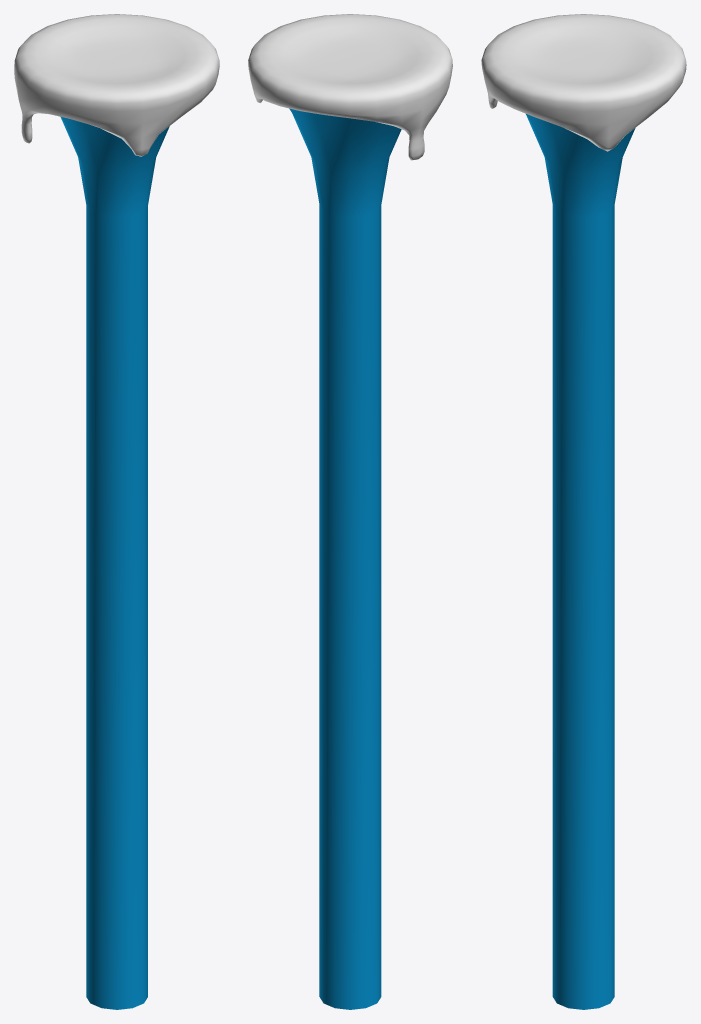
Rendered from IcePillar.fbx.
3 renders of one model, left to right at view 1: azimuth 30°, elevation 25°; view 2: azimuth 150°, elevation 25°; view 3: azimuth 270°, elevation 25°, orthographic.
Parts seen in each view (by area): view 1: IcePillar; view 2: IcePillar; view 3: IcePillar.
Part boxes in pixels (x1,y1,x2,y2): IcePillar: [14, 14, 219, 1009]; IcePillar: [248, 14, 452, 1009]; IcePillar: [481, 14, 686, 1009].
Size of the model in its own units: 663 by 3364 by 663.
